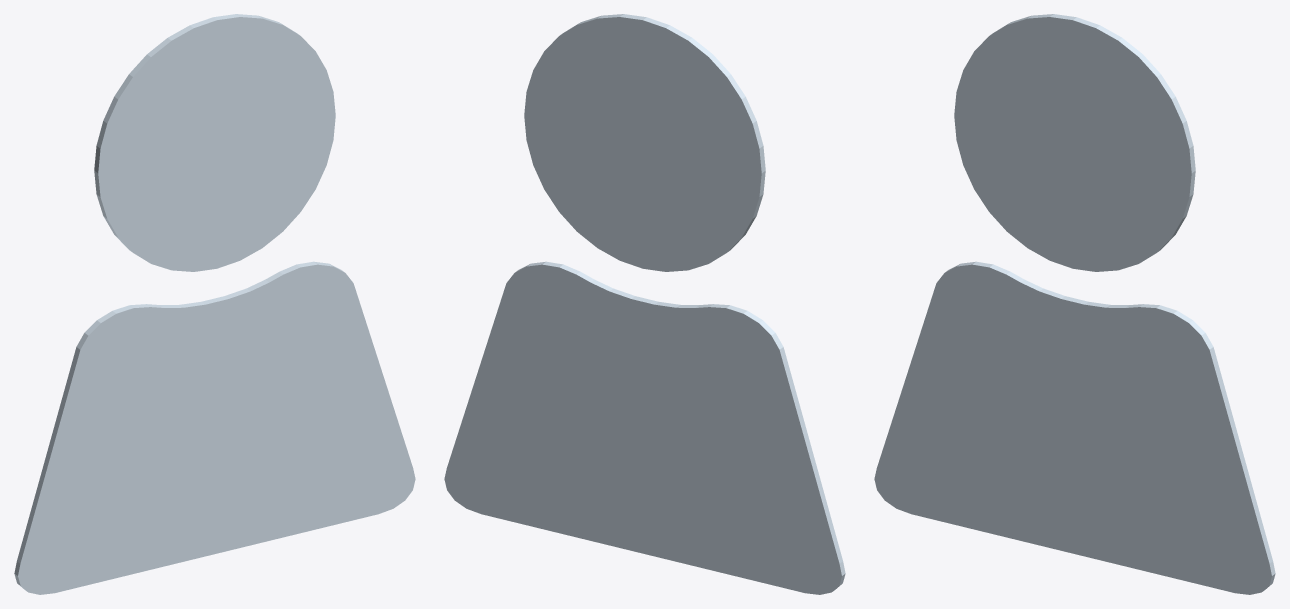
Rendered from User_3D_Icon_01.fbx.
The picture shows the model from 3 angles, left to right: view 1: azimuth 30°, elevation 25°; view 2: azimuth 150°, elevation 25°; view 3: azimuth 330°, elevation 25°; orthographic projection.
Visible parts, largest first — view 1: User_3D_Icon_01; view 2: User_3D_Icon_01; view 3: User_3D_Icon_01.
Part boxes in pixels (left/top/right/bottom): User_3D_Icon_01: left=14, top=14, right=415, bottom=594; User_3D_Icon_01: left=444, top=14, right=845, bottom=594; User_3D_Icon_01: left=874, top=14, right=1275, bottom=594.
Bounding box in the file's own units: 111 × 143 × 1.96.
